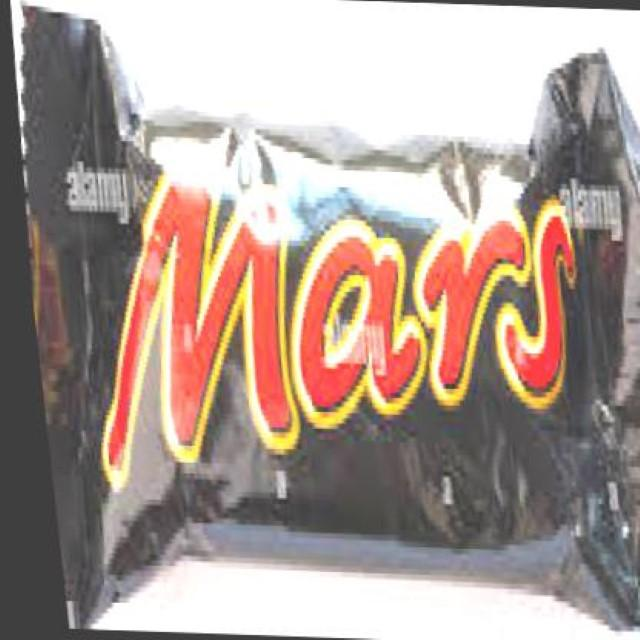mars_chocolate: (78, 85, 622, 563)
